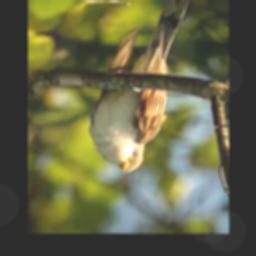Cuckoo: (90, 0, 190, 172)
